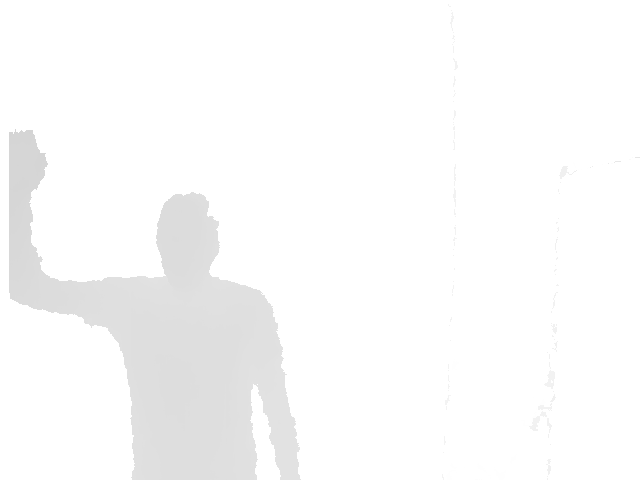hand: (8, 129, 49, 192)
head: (156, 192, 220, 282)
person: (9, 128, 303, 479)
